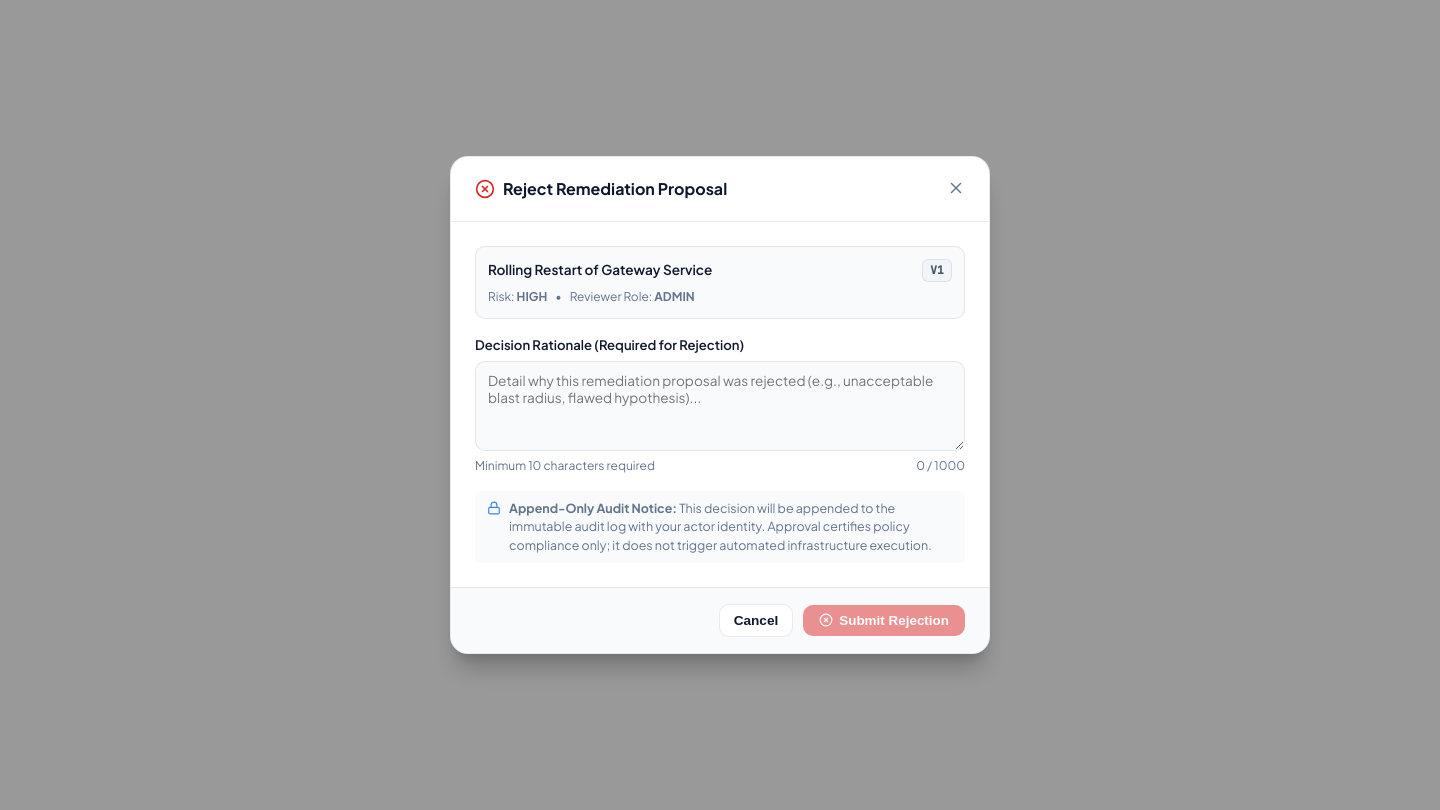
Test: Remediation Review & Approval UI (Milestone 5C) › Approval & Rejection Workflow Modal › validates mandatory rejection rationale before allowing submission
The width and height of the screenshot is (1440, 810).
Expected: the button with test id "confirm-decision-button" is disabled, [803,605,965,636]
Replace the text in the text box with test id "decision-rationale-input" with "Short" at (720, 406), box [475,361,965,451]
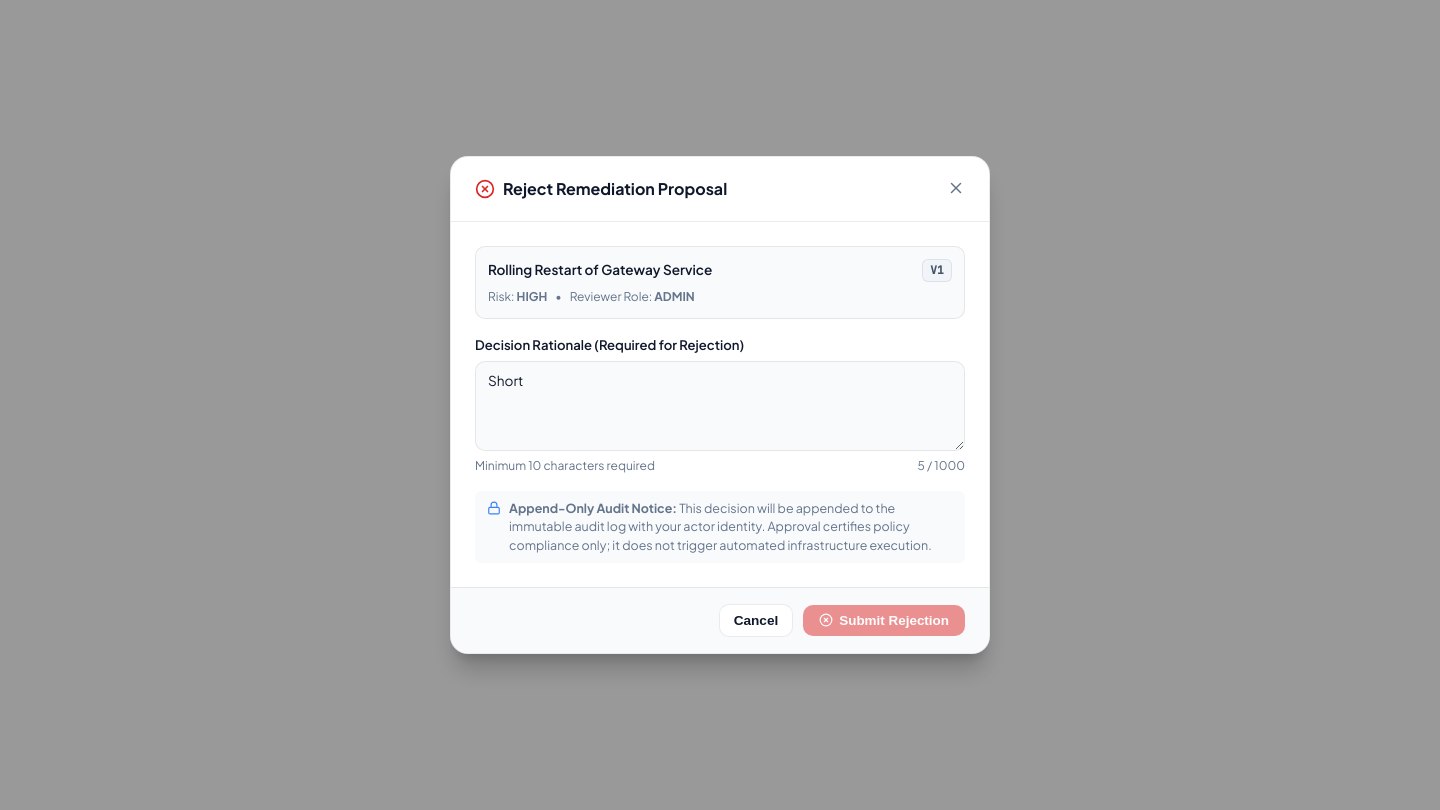
Expected: the button with test id "confirm-decision-button" is disabled, [803,605,965,636]
Replace the text in the text box with test id "decision-rationale-input" with "Restarting ingress poses too high a blast radius during peak traffic." at (720, 406), box [475,361,965,451]
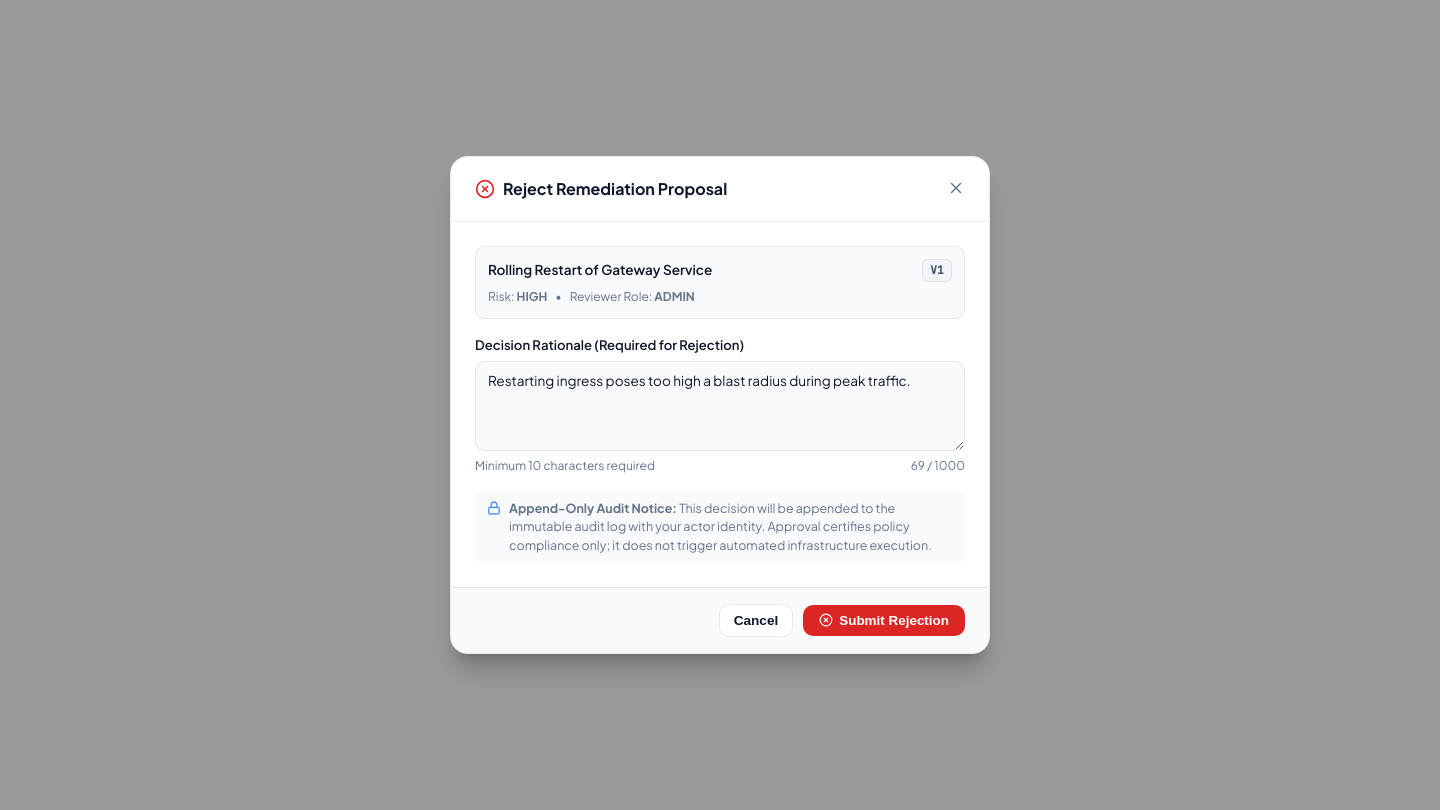
Now the button with test id "confirm-decision-button" is enabled, box [803,605,965,636]
